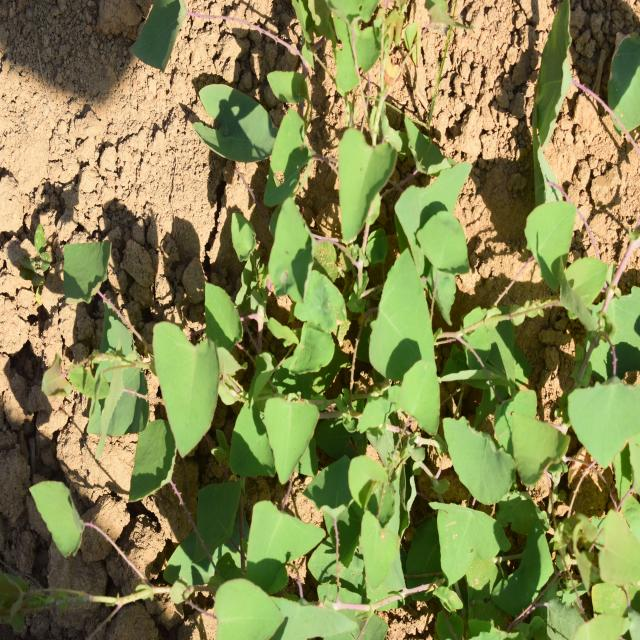Asiatic_Smartweed: (264, 129, 459, 479), (48, 218, 238, 498), (460, 189, 630, 496), (207, 481, 407, 636)
